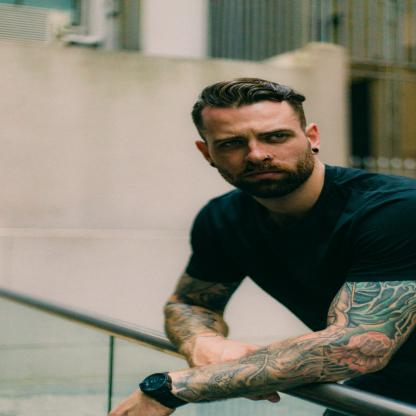Eye: (218, 136, 247, 150), (262, 131, 292, 144)
Mouth: (245, 168, 288, 182)
Nose: (245, 140, 273, 164)
